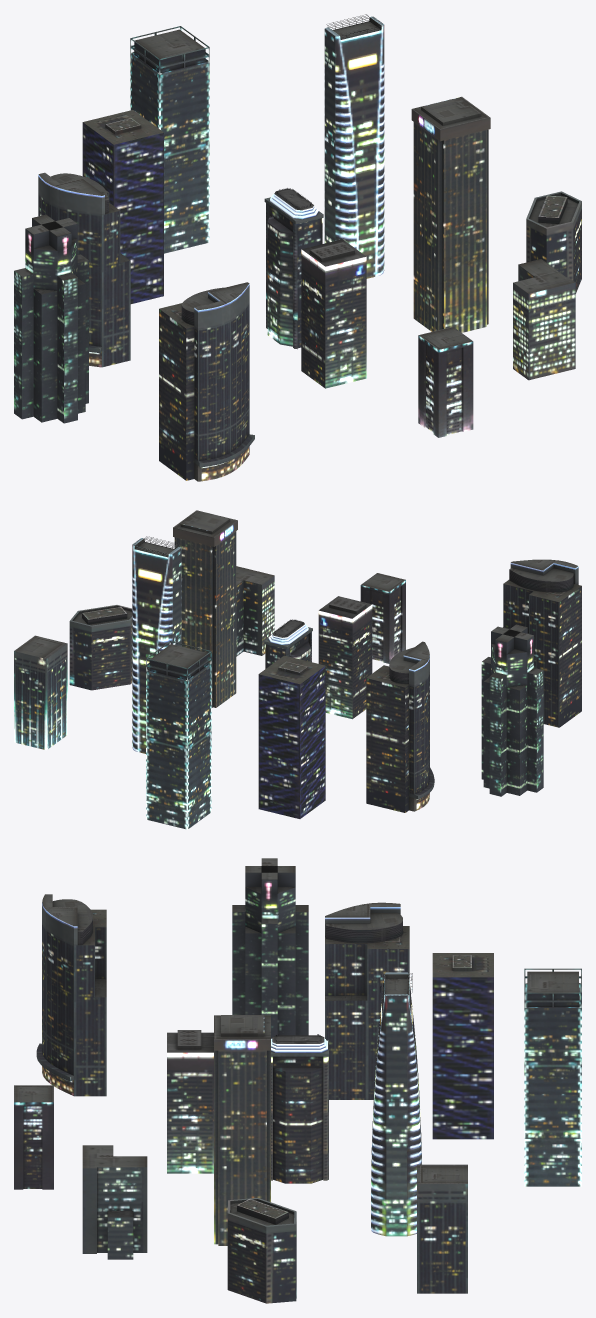
File: night_skyline.glb
The picture shows the model from 3 angles, top to bottom: view 1: azimuth 30°, elevation 25°; view 2: azimuth 150°, elevation 25°; view 3: azimuth 270°, elevation 25°; orthographic projection. The views are drawn at different scales.
Parts seen in each view (by area): view 1: night_skyline; view 2: night_skyline; view 3: night_skyline.
Part boxes in pixels (x1,y1,x2,y2): night_skyline: [14, 14, 581, 481]; night_skyline: [14, 510, 581, 829]; night_skyline: [14, 858, 581, 1303].
Size of the model in its own units: 196 by 81.99 by 173.
Materials: 1 (1 with a texture image).
